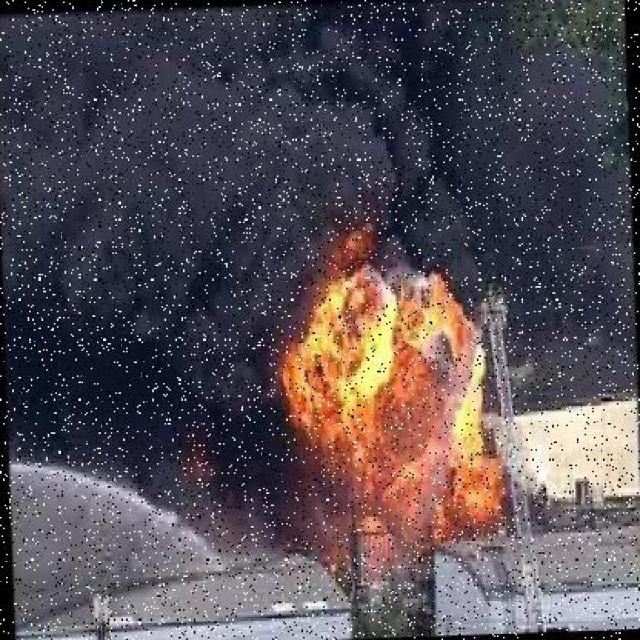fire: (280, 223, 514, 539)
